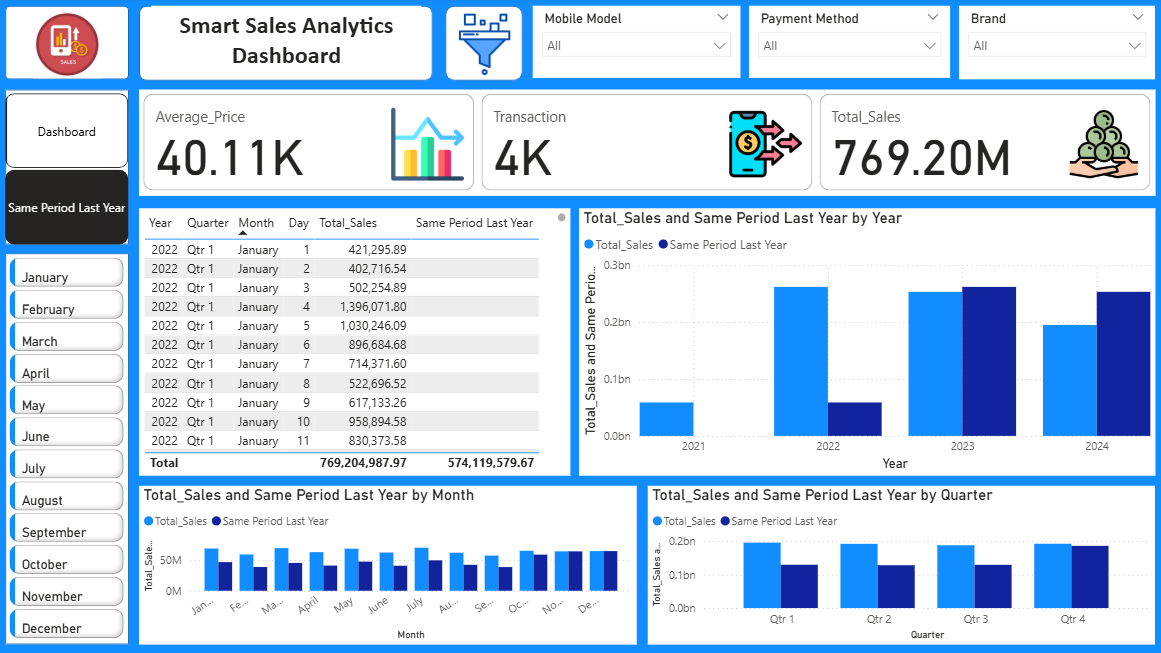

The page's visual inventory and layout, read from the dashboard file:
{"tool":"powerbi","page":{"name":"Same Period Last Year","canvas":[1280,720],"ordinal":1},"visuals":[{"type":"shape","box":[6.9,9.6,135.8,81],"z":0},{"type":"shape","box":[6.9,101.5,135.8,170.2],"z":1000},{"type":"shape","box":[6.9,281.3,135.8,429.5],"z":2000},{"type":"advancedSlicerVisual","fields":{"Values":["Custom.Date.Variation.Date Hierarchy.Month"]},"box":[6.9,281.3,135.8,429.5],"z":3000},{"type":"cardVisual","fields":{"Data":["Sales_Data.Average_Price","Sales_Data.Transaction","Sales_Data.Total_Sales"]},"box":[153.7,101.5,1115.6,116.6],"z":4000},{"type":"slicer","fields":{"Values":["Sales_Data.Mobile Model"]},"box":[585.9,9.6,227.8,79.6],"z":5000},{"type":"slicer","fields":{"Values":["Sales_Data.Payment Method"]},"box":[823.3,9.6,220.9,79.6],"z":6000},{"type":"slicer","fields":{"Values":["Sales_Data.Brand"]},"box":[1053.9,9.6,215.4,81],"z":7000},{"type":"shape","box":[489.9,9.6,85.1,82.3],"z":8000},{"type":"image","box":[429.5,12.3,207.2,79.6],"z":9000},{"type":"shape","box":[153.7,9.6,322.5,82.3],"z":10000},{"type":"textbox","box":[167.4,9.6,296.4,78.2],"z":11000},{"type":"actionButton","box":[0,0,100,40],"z":12000},{"type":"image","box":[32.9,7.1,84.3,90],"z":13000},{"type":"clusteredColumnChart","fields":{"Category":["Custom.Date.Variation.Date Hierarchy.Year","Custom.Date.Variation.Date Hierarchy.Quarter","Custom.Date.Variation.Date Hierarchy.Month","Custom.Date.Variation.Date Hierarchy.Day"],"Y":["Sales_Data.Total_Sales","Sales_Data.Same Period Last Year"]},"box":[636.7,231.9,632.6,293.7],"z":14000},{"type":"tableEx","fields":{"Values":["Custom.Date.Variation.Date Hierarchy.Year","Custom.Date.Variation.Date Hierarchy.Quarter","Custom.Date.Variation.Date Hierarchy.Month","Custom.Date.Variation.Date Hierarchy.Day","Sales_Data.Total_Sales","Sales_Data.Same Period Last Year"]},"box":[153.7,231.9,473.4,293.7],"z":15000},{"type":"clusteredColumnChart","fields":{"Category":["Custom.Date.Variation.Date Hierarchy.Year","Custom.Date.Variation.Date Hierarchy.Quarter","Custom.Date.Variation.Date Hierarchy.Month","Custom.Date.Variation.Date Hierarchy.Day"],"Y":["Sales_Data.Total_Sales","Sales_Data.Same Period Last Year"]},"box":[153.7,536.5,546.1,174.3],"z":15001},{"type":"clusteredColumnChart","fields":{"Category":["Custom.Date.Variation.Date Hierarchy.Year","Custom.Date.Variation.Date Hierarchy.Quarter","Custom.Date.Variation.Date Hierarchy.Month","Custom.Date.Variation.Date Hierarchy.Day"],"Y":["Sales_Data.Total_Sales","Sales_Data.Same Period Last Year"]},"box":[712.2,536.5,557.1,174.3],"z":15002},{"type":"pageNavigator","box":[6.9,105.7,135.8,166],"z":15003}]}

Visuals, with their boxes in screenshot pixels (x1, y1, x2, y2), scaled from the page's 1280x720 canvas onto the 1161x653 screenshot:
shape: box(6, 9, 129, 82)
shape: box(6, 92, 129, 246)
shape: box(6, 255, 129, 645)
advancedSlicerVisual - Custom.Date.Variation.Date Hierarchy.Month: box(6, 255, 129, 645)
cardVisual - Sales_Data.Average_Price x Sales_Data.Transaction: box(139, 92, 1151, 198)
slicer - Sales_Data.Mobile Model: box(531, 9, 738, 81)
slicer - Sales_Data.Payment Method: box(747, 9, 947, 81)
slicer - Sales_Data.Brand: box(956, 9, 1151, 82)
shape: box(444, 9, 522, 83)
image: box(390, 11, 578, 83)
shape: box(139, 9, 432, 83)
textbox: box(152, 9, 421, 80)
actionButton: box(0, 0, 91, 36)
image: box(30, 6, 106, 88)
clusteredColumnChart - Custom.Date.Variation.Date Hierarchy.Year x Custom.Date.Variation.Date Hierarchy.Quarter: box(578, 210, 1151, 477)
tableEx - Custom.Date.Variation.Date Hierarchy.Year x Custom.Date.Variation.Date Hierarchy.Quarter: box(139, 210, 569, 477)
clusteredColumnChart - Custom.Date.Variation.Date Hierarchy.Year x Custom.Date.Variation.Date Hierarchy.Quarter: box(139, 487, 635, 645)
clusteredColumnChart - Custom.Date.Variation.Date Hierarchy.Year x Custom.Date.Variation.Date Hierarchy.Quarter: box(646, 487, 1151, 645)
pageNavigator: box(6, 96, 129, 246)
